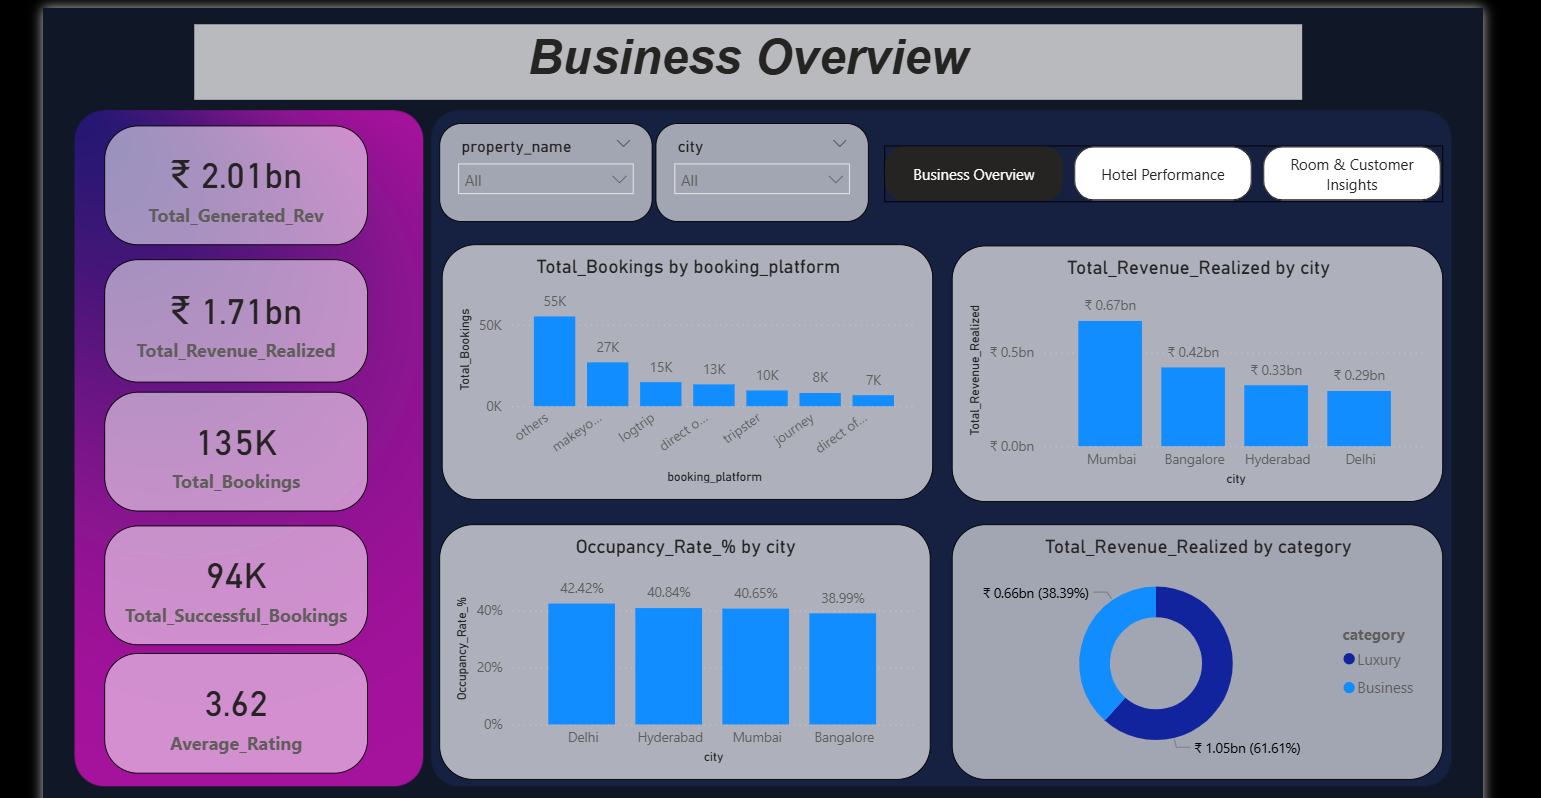

The page's visual inventory and layout, read from the dashboard file:
{"tool":"powerbi","page":{"name":"Business Overview","canvas":[1280,720],"ordinal":0},"visuals":[{"type":"card","fields":{"Values":["Measures_1.Total_Revenue_Realized"]},"box":[54.3,223.2,234,109.8],"z":0},{"type":"card","fields":{"Values":["Measures_.Total_Bookings"]},"box":[54.3,341.4,234,106.2],"z":1000},{"type":"card","fields":{"Values":["Measures_.Average_Rating"]},"box":[54.3,573.1,234,107.4],"z":2000},{"type":"card","fields":{"Values":["Measures_.Total_Bookings_Active"]},"box":[54.3,459.7,234,106.2],"z":3000},{"type":"columnChart","fields":{"Category":["fact_bookings.booking_platform"],"Y":["Measures_1.Total_Bookings"]},"box":[354.1,210.5,436.6,227.6],"z":4000},{"type":"textbox","box":[133.9,14.5,984.5,67.6],"z":5000},{"type":"columnChart","fields":{"Category":["dim_hotels.city"],"Y":["Measures_1.Total_Revenue_Realized"]},"box":[807.9,210.6,437.2,228],"z":6000},{"type":"columnChart","fields":{"Y":["Measures_2.Occupancy_Rate_%"],"Category":["dim_hotels.city"]},"box":[352.7,459.4,436.6,227.6],"z":7000},{"type":"donutChart","fields":{"Category":["dim_hotels.category"],"Y":["Measures_1.Total_Revenue_Realized"]},"box":[807.8,459.4,436.6,227.6],"z":8000},{"type":"slicer","fields":{"Values":["dim_hotels.city"]},"box":[544.1,102.5,189.4,88.1],"z":10000},{"type":"card","fields":{"Values":["Measures_1.Total_Generated_Rev"]},"box":[54.3,105,234,106.2],"z":11000},{"type":"pageNavigator","box":[748,121.9,497.1,50.7],"z":13000},{"type":"slicer","fields":{"Values":["dim_hotels.property_name"]},"box":[352.3,102.5,189.4,88.1],"z":14000}]}

Visuals, with their boxes on the page's 1280x720 design canvas (x1, y1, x2, y2). These are canvas units, not pixel positions in the 1541x798 screenshot, which may show the page scaled, cropped or inside an application window:
card - Measures_1.Total_Revenue_Realized: <box>54,223,288,333</box>
card - Measures_.Total_Bookings: <box>54,341,288,448</box>
card - Measures_.Average_Rating: <box>54,573,288,680</box>
card - Measures_.Total_Bookings_Active: <box>54,460,288,566</box>
columnChart - fact_bookings.booking_platform x Measures_1.Total_Bookings: <box>354,210,791,438</box>
textbox: <box>134,14,1118,82</box>
columnChart - dim_hotels.city x Measures_1.Total_Revenue_Realized: <box>808,211,1245,439</box>
columnChart - Measures_2.Occupancy_Rate_% x dim_hotels.city: <box>353,459,789,687</box>
donutChart - dim_hotels.category x Measures_1.Total_Revenue_Realized: <box>808,459,1244,687</box>
slicer - dim_hotels.city: <box>544,102,734,191</box>
card - Measures_1.Total_Generated_Rev: <box>54,105,288,211</box>
pageNavigator: <box>748,122,1245,173</box>
slicer - dim_hotels.property_name: <box>352,102,542,191</box>
